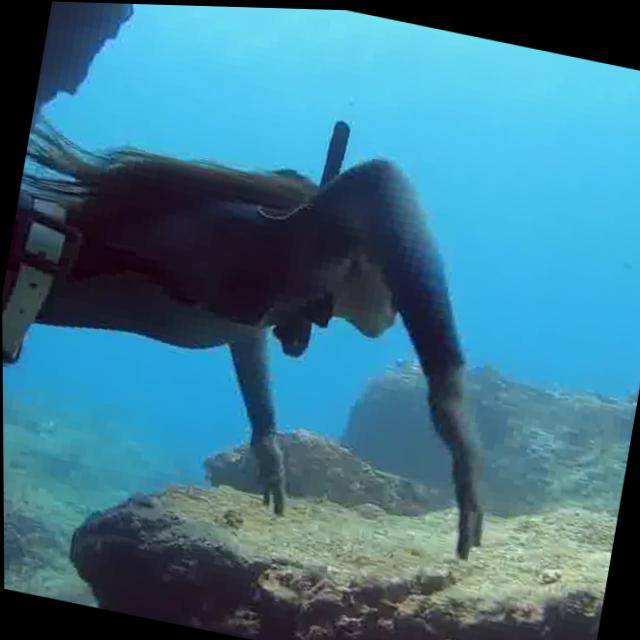human: (0, 61, 559, 576)
